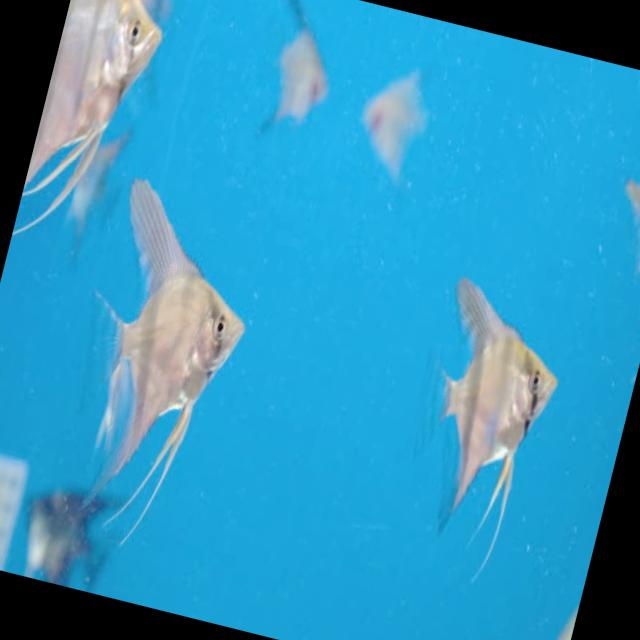AngelFish: (48, 162, 276, 554), (389, 276, 576, 580), (16, 0, 174, 242), (249, 0, 348, 150), (353, 56, 444, 202)
